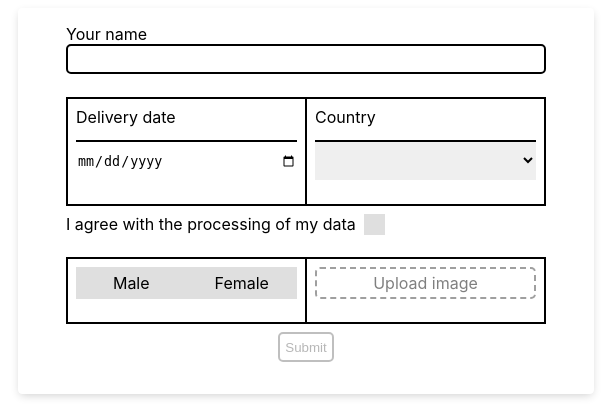
Scenario: Form component works › should render errors of incorrect fields
This screenshot has width=613, height=416.
Type "Correct Name" into the field.
click(306, 59); type("Correct Name")  # box [66,44,546,74]
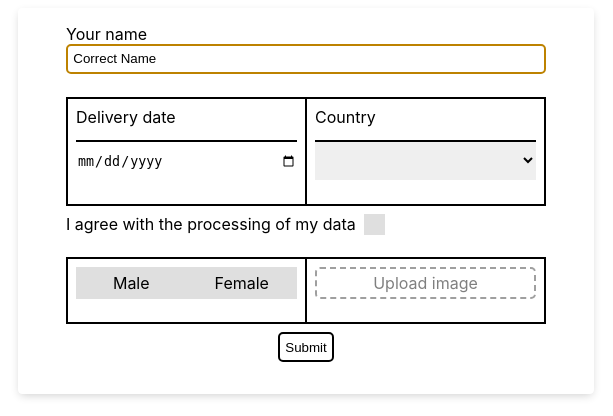
Click the radio button labelled "Male".
click(131, 283)  # box [76,267,186,299]
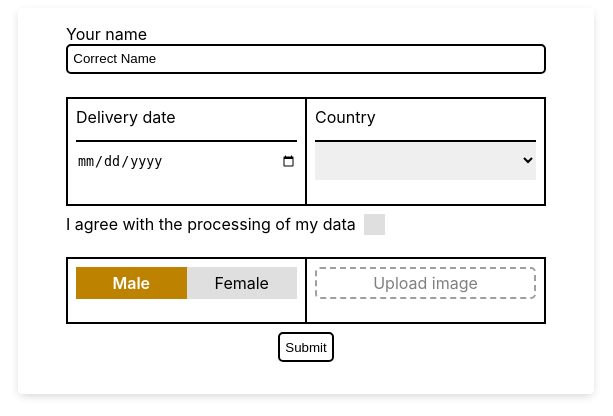
Click the button.
click(306, 347)  # box [278,332,334,362]
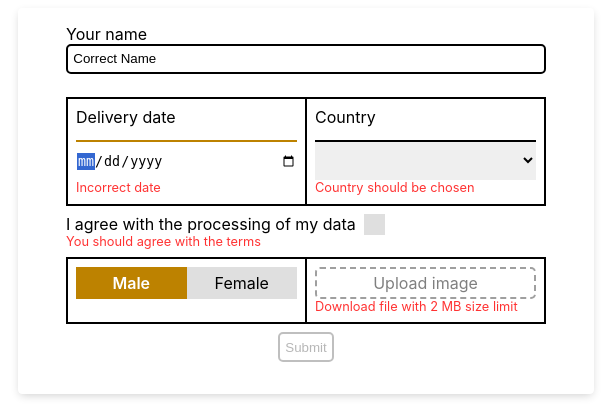
Now the text "Incorrect date" is shown, box [76,180,161,195]
Now the text "Country should be chosen" is shown, box [315,180,474,195]
Now the text "You should agree with the terms" is shown, box [66,234,261,249]
